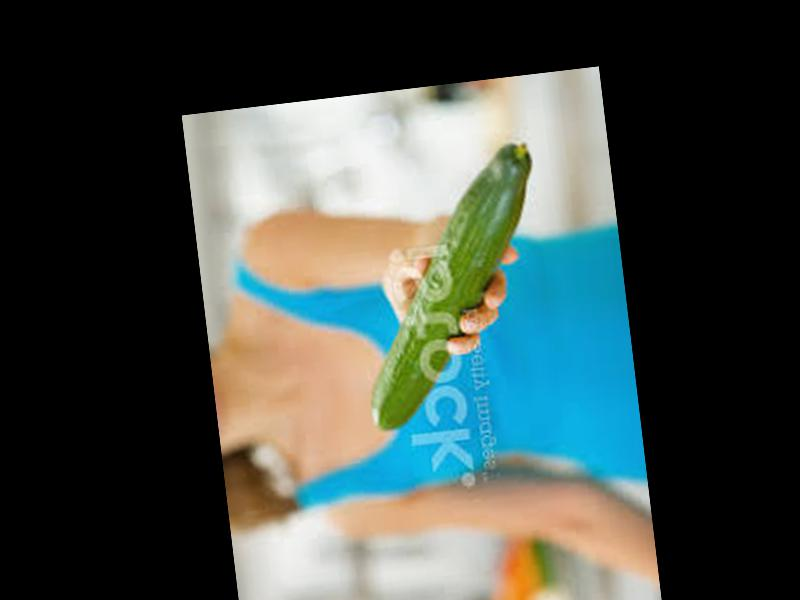Cucumber: (343, 142, 562, 433)
